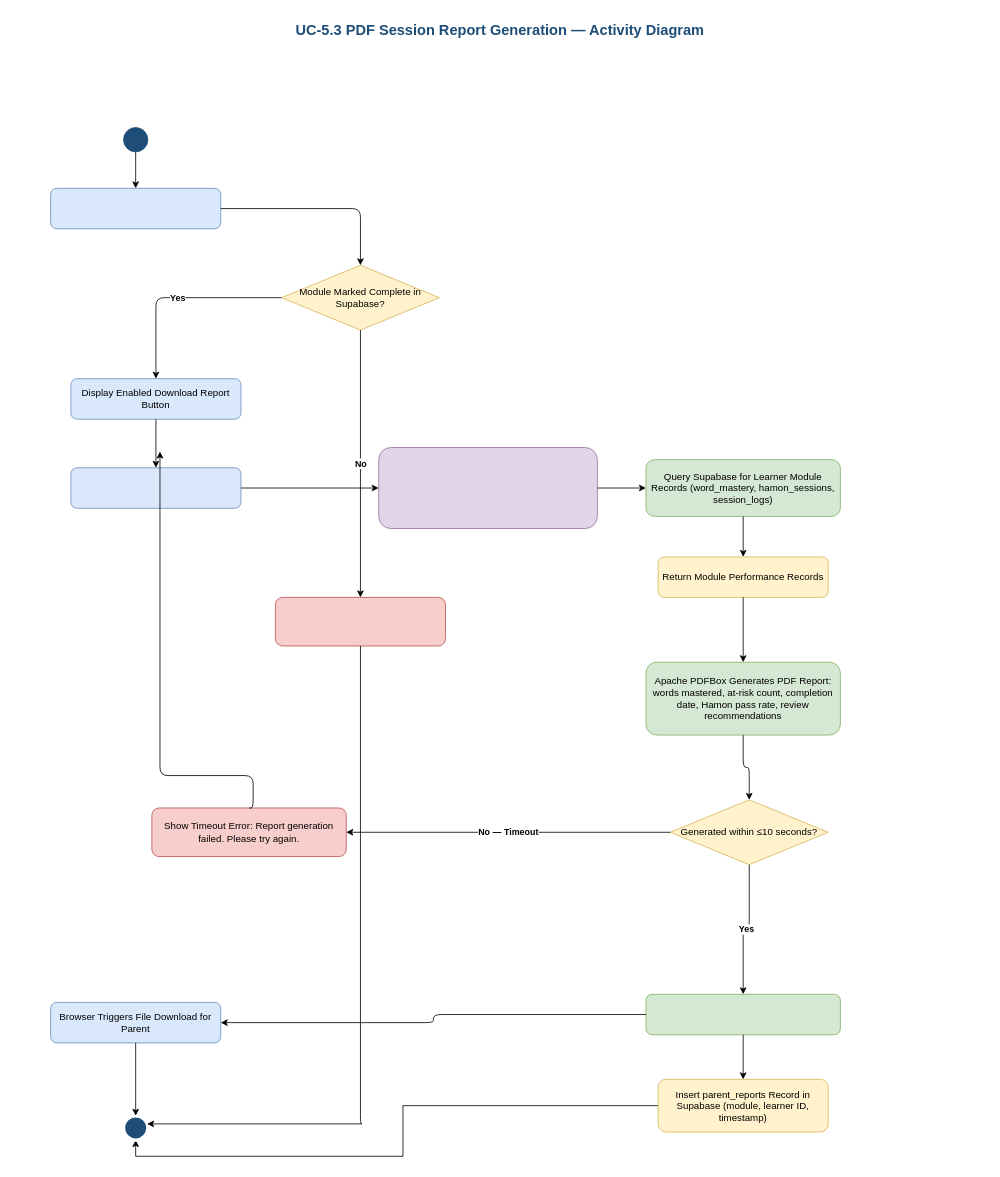
Some shapes in this 1000 by 1177 pixel diagram are drawn without their labels. The shapes that lost their labels are listed below. From the top down, each one's centre as x and y in pixels, then its label:
At point 135,208: "Navigate to Parent Dashboard".
At point 155,487: "Click Download Report Button".
At point 487,488: "Send GET Request to Spring Boot: /api/reports/generate/{userId}/{moduleNumber}".
At point 360,621: "Display Download Button as Disabled (Module Incomplete)".
At point 742,1014: "Return PDF as HTTP Binary Response".
